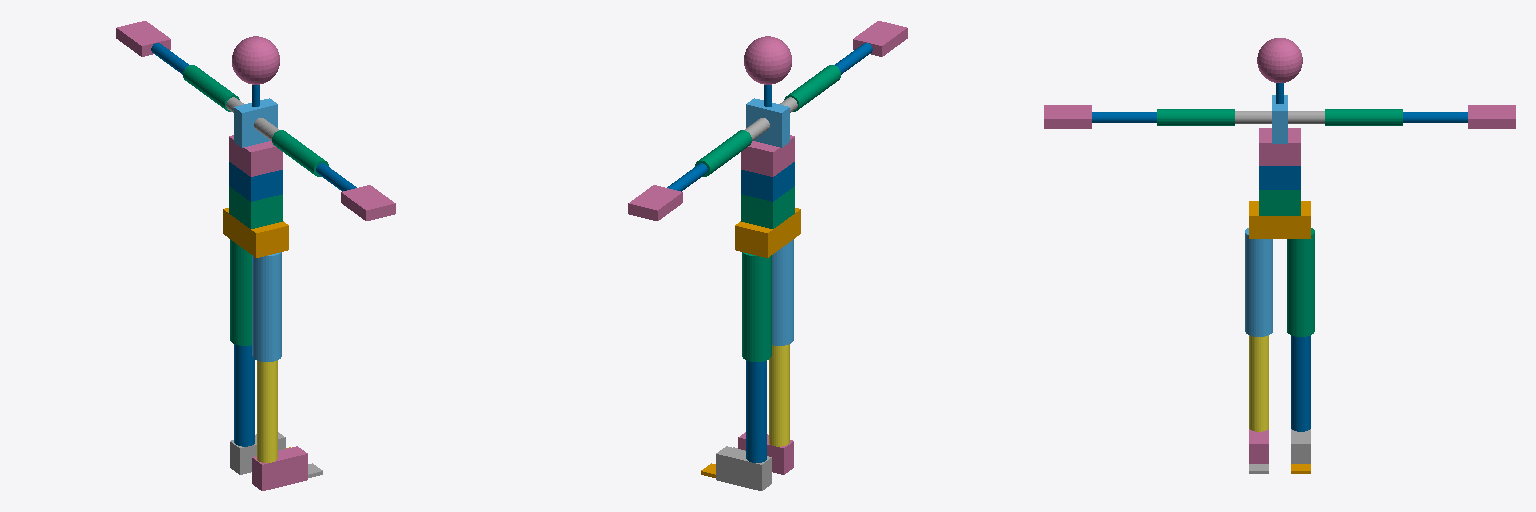
--- Render facts (derived) ---
Views: 3 orthographic renders of the robot side by side, from view 1: azimuth 30°, elevation 25°; view 2: azimuth 150°, elevation 25°; view 3: azimuth 270°, elevation 25°.
Robot: XSensStyleModel_template — 49 links, 48 joints (48 revolute); root link Pelvis; default pose: every joint at zero.
Links seen in each view (by area): view 1: RightUpperLeg, LeftUpperLeg, RightLowerLeg, LeftLowerLeg, Head, Pelvis, RightFoot, T12, L5, T8, L3, RightHand (+4 smaller); view 2: LeftUpperLeg, RightUpperLeg, LeftLowerLeg, RightLowerLeg, Head, Pelvis, LeftFoot, T12, L5, T8, L3, LeftHand (+4 smaller); view 3: RightUpperLeg, LeftUpperLeg, RightLowerLeg, LeftLowerLeg, Pelvis, Head, T12, RightUpperArm, LeftUpperArm, RightHand, LeftHand, L5 (+6 smaller).
Link boxes in pixels (box(x1,y1,x2,y2)): RightUpperLeg: box(252, 252, 281, 361); LeftUpperLeg: box(230, 239, 251, 345); RightLowerLeg: box(257, 360, 277, 462); LeftLowerLeg: box(234, 344, 254, 446); Head: box(232, 36, 279, 84); Pelvis: box(223, 208, 288, 257); RightFoot: box(252, 446, 307, 490); T12: box(229, 135, 282, 176); L5: box(229, 186, 282, 228); T8: box(234, 98, 277, 147); L3: box(229, 162, 282, 201); RightHand: box(341, 185, 395, 220); LeftUpperLeg: box(742, 252, 771, 361); RightUpperLeg: box(772, 239, 793, 345); LeftLowerLeg: box(746, 360, 766, 462); RightLowerLeg: box(769, 344, 789, 446); Head: box(744, 36, 791, 84); Pelvis: box(735, 208, 800, 257); LeftFoot: box(716, 446, 771, 490); T12: box(741, 135, 794, 176); L5: box(741, 186, 794, 228); T8: box(746, 98, 789, 147); L3: box(741, 162, 794, 201); LeftHand: box(628, 185, 682, 220); RightUpperLeg: box(1245, 228, 1272, 336); LeftUpperLeg: box(1287, 228, 1314, 336); RightLowerLeg: box(1249, 335, 1268, 431); LeftLowerLeg: box(1291, 335, 1310, 431); Pelvis: box(1249, 201, 1310, 238); Head: box(1257, 38, 1302, 82); T12: box(1259, 128, 1300, 165); RightUpperArm: box(1157, 109, 1234, 125); LeftUpperArm: box(1325, 109, 1402, 125); RightHand: box(1044, 105, 1091, 128); LeftHand: box(1468, 105, 1515, 128); L5: box(1259, 190, 1300, 215).
Size in the robot's own frame: 0.2984 by 1.8 by 1.74 metres.
Geometry: primitives only (box / cylinder / sphere), no mesh files.

URDF robot description (XSensStyleModel_template):
<robot name="XSensStyleModel_template">
<!--To open this model with Gazebo replace the null masses, inertias and dimensions of the 'fake links f1 and f2'-->
    <!--LINKS-->
	<!--Link base (1)-->
	<link name="Pelvis">
        <inertial>
            <mass value="4.9968"/>
			<!--COM origin wrt pHipOrigin-->
            <origin xyz="0           0     0.04926" rpy="0 0 0" />
            <inertia ixx="0.028027" iyy="0.011679" izz="0.031624" ixy="0" ixz="0" iyz="0"/>
        </inertial>

        <visual>
			<!--box origin wrt pHipOrigin-->
            <origin xyz="0           0     0.04926" rpy="0 0 0" />
            <geometry>
                <box size="0.13544     0.24001    0.098513"/>
            </geometry>
        </visual>

        <collision>
			<!--box origin wrt pHipOrigin-->
            <origin xyz="0           0     0.04926" rpy="0 0 0" />
            <geometry>
                <box size="0.13544     0.24001    0.098513"/>
            </geometry>
        </collision>

    </link>
    <!--Chain from (2) to (7)-->
	<link name="L5_f1">
        <inertial>
            <mass value="0.0001"/>
            <origin xyz="0 0 0" rpy="0 0 0" />
            <inertia ixx="0.0003" iyy="0.0003" izz="0.0003" ixy="0" ixz="0" iyz="0"/>
        </inertial>
    </link>
	<link name="L5">
        <inertial>
            <mass value="6.3709"/>
			<!--COM origin wrt jL5S1-->
            <origin xyz="0           0    0.054267" rpy="0 0 0" />
            <inertia ixx="0.047039" iyy="0.03547" izz="0.069039" ixy="0" ixz="0" iyz="0"/>
        </inertial>

        <visual>
			<!--box origin origin wrt jL5S1-->
            <origin xyz="0           0    0.054267" rpy="0 0 0" />
            <geometry>
                <box size="0.13544     0.16002     0.10853"/>
            </geometry>
        </visual>

        <collision>
			<!--box origin origin wrt jL5S1-->
            <origin xyz="0           0    0.054267" rpy="0 0 0" />
            <geometry>
                <box size="0.13544     0.16002     0.10853"/>
            </geometry>
        </collision>
    </link>
	<link name="L3_f1">
        <inertial>
            <mass value="0.0001"/>
            <origin xyz="0 0 0" rpy="0 0 0" />
            <inertia ixx="0.0003" iyy="0.0003" izz="0.0003" ixy="0" ixz="0" iyz="0"/>
        </inertial>
    </link>
	<link name="L3">
        <inertial>
            <mass value="6.3709"/>
			<!--COM origin wrt jL4L3-->
            <origin xyz="0           0    0.049032" rpy="0 0 0" />
            <inertia ixx="0.045891" iyy="0.034322" izz="0.069039" ixy="0" ixz="0" iyz="0"/>
        </inertial>

        <visual>
			<!--box origin origin wrt jL4L3-->
            <origin xyz="0           0    0.049032" rpy="0 0 0" />
            <geometry>
                <box size="0.13544     0.16002    0.098064"/>
            </geometry>
        </visual>

        <collision>
			<!--box origin origin wrt jL4L3-->
            <origin xyz="0           0    0.049032" rpy="0 0 0" />
            <geometry>
                <box size="0.13544     0.16002    0.098064"/>
            </geometry>
        </collision>
    </link>
	<link name="T12_f1">
        <inertial>
            <mass value="0.0001"/>
            <origin xyz="0 0 0" rpy="0 0 0" />
            <inertia ixx="0.0003" iyy="0.0003" izz="0.0003" ixy="0" ixz="0" iyz="0"/>
        </inertial>
    </link>
	<link name="T12">
        <inertial>
            <mass value="6.3709"/>
			<!--COM origin wrt jL1T12-->
            <origin xyz="0           0    0.049032" rpy="0 0 0" />
            <inertia ixx="0.045891" iyy="0.034322" izz="0.069039" ixy="0" ixz="0" iyz="0"/>
        </inertial>

        <visual>
			<!--box origin origin wrt jL1T12-->
            <origin xyz="0           0    0.049032" rpy="0 0 0" />
            <geometry>
                <box size="0.13544     0.16002    0.098064"/>
            </geometry>
        </visual>

        <collision>
			<!--box origin origin wrt jL1T12-->
            <origin xyz="0           0    0.049032" rpy="0 0 0" />
            <geometry>
                <box size="0.13544     0.16002    0.098064"/>
            </geometry>
        </collision>
    </link>
	<link name="T8_f1">
        <inertial>
            <mass value="0.0001"/>
            <origin xyz="0 0 0" rpy="0 0 0" />
            <inertia ixx="0.0003" iyy="0.0003" izz="0.0003" ixy="0" ixz="0" iyz="0"/>
        </inertial>
    </link>
	<link name="T8_f2">
        <inertial>
            <mass value="0.0001"/>
            <origin xyz="0 0 0" rpy="0 0 0" />
            <inertia ixx="0.0003" iyy="0.0003" izz="0.0003" ixy="0" ixz="0" iyz="0"/>
        </inertial>
    </link>
	<link name="T8">
        <inertial>
            <mass value="2.4984"/>
			<!--COM origin wrt jT9T8-->
            <origin xyz="0           0    0.069025" rpy="0 0 0" />
            <inertia ixx="0.0047169" iyy="0.0086566" izz="0.0054379" ixy="0" ixz="0" iyz="0"/>
        </inertial>

        <visual>
			<!--box origin wrt jT9T8-->
            <origin xyz="0           0    0.069025" rpy="0 0 0" />
            <geometry>
                <box size="0.15007    0.059982     0.13805"/>
            </geometry>
        </visual>

        <collision>
			<!--box origin wrt jT9T8-->
            <origin xyz="0           0    0.069025" rpy="0 0 0" />
            <geometry>
                <box size="0.15007    0.059982     0.13805"/>
            </geometry>
        </collision>

    </link>
	<link name="Neck_f1">
        <inertial>
            <mass value="0.0001"/>
            <origin xyz="0 0 0" rpy="0 0 0" />
            <inertia ixx="0.0003" iyy="0.0003" izz="0.0003" ixy="0" ixz="0" iyz="0"/>
        </inertial>
    </link>
	<link name="Neck_f2">
        <inertial>
            <mass value="0.0001"/>
            <origin xyz="0 0 0" rpy="0 0 0" />
            <inertia ixx="0.0003" iyy="0.0003" izz="0.0003" ixy="0" ixz="0" iyz="0"/>
        </inertial>
    </link>
	<link name="Neck">
        <inertial>
            <mass value="0.74952"/>
			<!--COM origin wrt jT1C7-->
            <origin xyz="0           0     0.04564" rpy="0 0 0" />
            <inertia ixx="0.0006812" iyy="0.0006812" izz="0.00032155" ixy="0" ixz="0" iyz="0"/>
        </inertial>

        <visual>
			<!--box origin wrt jT1C7-->
            <origin xyz="0           0     0.04564" rpy="0 0 0" />
            <geometry>
		<cylinder length="0.09128" radius="0.014646"/>
            </geometry>
        </visual>

        <collision>
			<!--box origin wrt jT1C7-->
            <origin xyz="0           0     0.04564" rpy="0 0 0" />
            <geometry>
                <cylinder length="0.09128" radius="0.014646"/>
            </geometry>
        </collision>
    </link>
	<link name="Head_f1">
        <inertial>
            <mass value="0.0001"/>
            <origin xyz="0 0 0" rpy="0 0 0" />
            <inertia ixx="0.0003" iyy="0.0003" izz="0.0003" ixy="0" ixz="0" iyz="0"/>
        </inertial>
    </link>
	<link name="Head">
        <inertial>
            <mass value="2.2486"/>
			<!--COM origin wrt jC1Head-->
            <origin xyz="0           0    0.087374" rpy="0 0 0" />
            <inertia ixx="0.0068665" iyy="0.0068665" izz="0.0068665" ixy="0" ixz="0" iyz="0"/>
        </inertial>

        <visual>
			<!--boc origin wrt jC1Head-->
            <origin xyz="0           0    0.087374" rpy="0 0 0" />
            <geometry>
                <sphere radius="0.087374"/>
            </geometry>
        </visual>

        <collision>
			<!--box origin wrt jC1Head-->
            <origin xyz="0           0    0.087374" rpy="0 0 0" />
            <geometry>
                <sphere radius="0.087374"/>
            </geometry>
        </collision>

    </link>
	<!--Chain from (8) to (11)-->
	<link name="RightShoulder">
        <inertial>
            <mass value="1.9363"/>
			<!--COM origin wrt jRightC7Shoulder-->
            <origin xyz="0   -0.069999           0" rpy="0 0 0" />
            <inertia ixx="0.0034652" iyy="0.00060537" izz="0.0034652" ixy="0" ixz="0" iyz="0"/>
        </inertial>

        <visual>
			<!--box origin wrt jRightC7Shoulder. RPY rotated of pi/2.-->
            <origin xyz="0   -0.069999           0" rpy="1.5708 0 0" />
            <geometry>
                <cylinder length="0.14" radius="0.025006"/>
            </geometry>
        </visual>

        <collision>
			<!--box origin wrt jRightC7Shoulder. RPY rotated of pi/2.-->
            <origin xyz="0   -0.069999           0" rpy="1.5708 0 0" />
            <geometry>
                <cylinder length="0.14" radius="0.025006"/>
            </geometry>
        </collision>

    </link>
	<link name="RightUpperArm_f1">
        <inertial>
            <mass value="0.0001"/>
            <origin xyz="0 0 0" rpy="0 0 0" />
            <inertia ixx="0.0003" iyy="0.0003" izz="0.0003" ixy="0" ixz="0" iyz="0"/>
        </inertial>
    </link>
	<link name="RightUpperArm_f2">
        <inertial>
            <mass value="0.0001"/>
            <origin xyz="0 0 0" rpy="0 0 0" />
            <inertia ixx="0.0003" iyy="0.0003" izz="0.0003" ixy="0" ixz="0" iyz="0"/>
        </inertial>
    </link>
    <link name="RightUpperArm">
        <inertial>
            <mass value="1.8738"/>
			<!--COM origin wrt jRightShoulder-->
            <origin xyz="0    -0.14999           0" rpy="0 0 0" />
            <inertia ixx="0.014546" iyy="0.014546" izz="0.00098966" ixy="0" ixz="0" iyz="0"/>
        </inertial>

        <visual>
			<!--box origin wrt jRightShoulder. RPY rotated of pi/2.-->
            <origin xyz="0    -0.14999           0" rpy="1.5708 0 0" />
            <geometry>
                <cylinder length="0.29998" radius="0.032501"/>
            </geometry>
        </visual>

        <collision>
			<!--box origin wrt jRightShoulder. RPY rotated of pi/2.-->
            <origin xyz="0    -0.14999           0" rpy="1.5708 0 0" />
            <geometry>
                <cylinder length="0.29998" radius="0.032501"/>
            </geometry>
        </collision>

    </link>
	<link name="RightForeArm_f1">
        <inertial>
            <mass value="0.0001"/>
            <origin xyz="0 0 0" rpy="0 0 0" />
            <inertia ixx="0.0003" iyy="0.0003" izz="0.0003" ixy="0" ixz="0" iyz="0"/>
        </inertial>
    </link>
	<link name="RightForeArm">
        <inertial>
            <mass value="1.2492"/>
			<!--COM origin wrt jRightElbow-->
            <origin xyz="0    -0.12261           0" rpy="0 0 0" />
            <inertia ixx="0.0064063" iyy="0.0064063" izz="0.00029323" ixy="0" ixz="0" iyz="0"/>
        </inertial>

        <visual>
			<!--box origin wrt jRightElbow. RPY rotated of pi/2.-->
            <origin xyz="0    -0.12261           0" rpy="1.5708 0 0" />
            <geometry>
                <cylinder length="0.24522" radius="0.021667"/>
            </geometry>
        </visual>

        <collision>
			<!--box origin wrt jRightElbow. RPY rotated of pi/2.-->
            <origin xyz="0    -0.12261           0" rpy="1.5708 0 0" />
            <geometry>
                <cylinder length="0.24522" radius="0.021667"/>
            </geometry>
        </collision>

    </link>
	<link name="RightHand_f1">
        <inertial>
            <mass value="0.0001"/>
            <origin xyz="0 0 0" rpy="0 0 0" />
            <inertia ixx="0.0003" iyy="0.0003" izz="0.0003" ixy="0" ixz="0" iyz="0"/>
        </inertial>
    </link>
	<link name="RightHand">
        <inertial>
            <mass value="0.37476"/>
			<!--COM origin wrt jRightWrist-->
            <origin xyz="0   -0.091519           0" rpy="0 0 0" />
            <inertia ixx="0.0011049" iyy="0.00052366" izz="0.0015113" ixy="0" ixz="0" iyz="0"/>
        </inertial>

        <visual>
			<!--box origin wrt jRightWrist-->
            <origin xyz="0   -0.091519           0" rpy="0 0 0" />
            <geometry>
                <box size="0.12202     0.18304    0.043335"/>
            </geometry>
        </visual>

        <collision>
			<!--box origin wrt jRightWrist-->
            <origin xyz="0   -0.091519           0" rpy="0 0 0" />
            <geometry>
                <box size="0.12202     0.18304    0.043335"/>
            </geometry>
        </collision>

    </link>
	<!--Chain from (12) to (15)-->
	<link name="LeftShoulder">
        <inertial>
            <mass value="1.9363"/>
			<!--COM origin wrt jLeftC7Shoulder-->
            <origin xyz="0    0.069999           0" rpy="0 0 0" />
            <inertia ixx="0.0034652" iyy="0.00060537" izz="0.0034652" ixy="0" ixz="0" iyz="0"/>
        </inertial>

        <visual>
			<!--box origin wrt jLeftC7Shoulder. RPY rotated of pi/2.-->
            <origin xyz="0    0.069999           0" rpy="1.5708 0 0" />
            <geometry>
                <cylinder length="0.14" radius="0.025006"/>
            </geometry>
        </visual>

        <collision>
			<!--box origin wrt jLeftC7Shoulder. RPY rotated of pi/2.-->
            <origin xyz="0    0.069999           0" rpy="1.5708 0 0" />
            <geometry>
                <cylinder length="0.14" radius="0.025006"/>
            </geometry>
        </collision>

    </link>
	<link name="LeftUpperArm_f1">
        <inertial>
            <mass value="0.0001"/>
            <origin xyz="0 0 0" rpy="0 0 0" />
            <inertia ixx="0.0003" iyy="0.0003" izz="0.0003" ixy="0" ixz="0" iyz="0"/>
        </inertial>
    </link>
	<link name="LeftUpperArm_f2">
        <inertial>
            <mass value="0.0001"/>
            <origin xyz="0 0 0" rpy="0 0 0" />
            <inertia ixx="0.0003" iyy="0.0003" izz="0.0003" ixy="0" ixz="0" iyz="0"/>
        </inertial>
    </link>
	<link name="LeftUpperArm">
        <inertial>
            <mass value="1.8738"/>
			<!--COM origin wrt jLeftShoulder-->
            <origin xyz="0     0.14999           0" rpy="0 0 0" />
            <inertia ixx="0.014546" iyy="0.014546" izz="0.00098966" ixy="0" ixz="0" iyz="0"/>
        </inertial>

        <visual>
			<!--box origin wrt jLeftShoulder. RPY rotated of pi/2.-->
            <origin xyz="0     0.14999           0" rpy="1.5708 0 0" />
            <geometry>
                <cylinder length="0.29998" radius="0.032501"/>
            </geometry>
        </visual>

        <collision>
			<!--box origin wrt jLeftShoulder. RPY rotated of pi/2.-->
            <origin xyz="0     0.14999           0" rpy="1.5708 0 0" />
            <geometry>
                <cylinder length="0.29998" radius="0.032501"/>
            </geometry>
        </collision>

    </link>
	<link name="LeftForeArm_f1">
        <inertial>
            <mass value="0.0001"/>
            <origin xyz="0 0 0" rpy="0 0 0" />
            <inertia ixx="0.0003" iyy="0.0003" izz="0.0003" ixy="0" ixz="0" iyz="0"/>
        </inertial>
    </link>
	<link name="LeftForeArm">
        <inertial>
            <mass value="1.2492"/>
			<!--COM origin wrt jLeftElbow-->
            <origin xyz="0     0.12261           0" rpy="0 0 0" />
            <inertia ixx="0.0064063" iyy="0.0064063" izz="0.00029323" ixy="0" ixz="0" iyz="0"/>
        </inertial>

        <visual>
			<!--box origin wrt jLeftElbow. RPY rotated of pi/2.-->
            <origin xyz="0     0.12261           0" rpy="1.5708 0 0" />
            <geometry>
                <cylinder length="0.24522" radius="0.021667"/>
            </geometry>
        </visual>

        <collision>
			<!--box origin wrt jLeftElbow. RPY rotated of pi/2.-->
            <origin xyz="0     0.12261           0" rpy="1.5708 0 0" />
            <geometry>
                <cylinder length="0.24522" radius="0.021667"/>
            </geometry>
        </collision>

    </link>
	<link name="LeftHand_f1">
        <inertial>
            <mass value="0.0001"/>
            <origin xyz="0 0 0" rpy="0 0 0" />
            <inertia ixx="0.0003" iyy="0.0003" izz="0.0003" ixy="0" ixz="0" iyz="0"/>
        </inertial>
    </link>
	<link name="LeftHand">
        <inertial>
            <mass value="0.37476"/>
			<!--COM origin wrt jLeftWrist-->
            <origin xyz="0    0.091519           0" rpy="0 0 0" />
            <inertia ixx="0.0011049" iyy="0.00052366" izz="0.0015113" ixy="0" ixz="0" iyz="0"/>
        </inertial>

        <visual>
			<!--COM origin wrt jLeftWrist-->
            <origin xyz="0    0.091519           0" rpy="0 0 0" />
            <geometry>
                <box size="0.12202     0.18304    0.043335"/>
            </geometry>
        </visual>

        <collision>
			<!--COM origin wrt jLeftWrist-->
            <origin xyz="0    0.091519           0" rpy="0 0 0" />
            <geometry>
                <box size="0.12202     0.18304    0.043335"/>
            </geometry>
        </collision>

    </link>
	<!--Chain from (16) to (19)-->
	<link name="RightUpperLeg_f1">
        <inertial>
            <mass value="0.0001"/>
            <origin xyz="0 0 0" rpy="0 0 0" />
            <inertia ixx="0.0003" iyy="0.0003" izz="0.0003" ixy="0" ixz="0" iyz="0"/>
        </inertial>
    </link>
	<link name="RightUpperLeg_f2">
        <inertial>
            <mass value="0.0001"/>
            <origin xyz="0 0 0" rpy="0 0 0" />
            <inertia ixx="0.0003" iyy="0.0003" izz="0.0003" ixy="0" ixz="0" iyz="0"/>
        </inertial>
    </link>
    <link name="RightUpperLeg">
        <inertial>
            <mass value="7.8075"/>
			<!--COM origin wrt jRightHip-->
            <origin xyz="0           0     -0.2098" rpy="0 0 0" />
            <inertia ixx="0.12001" iyy="0.12001" izz="0.010917" ixy="0" ixz="0" iyz="0"/>
        </inertial>

        <visual>
			<!--box origin wrt jRightHip-->
            <origin xyz="0           0     -0.2098" rpy="0 0 0" />
            <geometry>
                <cylinder length="0.41961" radius="0.052882"/>
            </geometry>
        </visual>

        <collision>
			<!--box origin wrt jRightHip-->
            <origin xyz="0           0     -0.2098" rpy="0 0 0" />
            <geometry>
                <cylinder length="0.41961" radius="0.052882"/>
            </geometry>
        </collision>

    </link>
	<link name="RightLowerLeg_f1">
        <inertial>
            <mass value="0.0001"/>
            <origin xyz="0 0 0" rpy="0 0 0" />
            <inertia ixx="0.0003" iyy="0.0003" izz="0.0003" ixy="0" ixz="0" iyz="0"/>
        </inertial>
    </link>
    <link name="RightLowerLeg">
        <inertial>
            <mass value="2.2798"/>
			<!--COM origin wrt jRightKnee-->
            <origin xyz="0           0    -0.20315" rpy="0 0 0" />
            <inertia ixx="0.032164" iyy="0.032164" izz="0.0016028" ixy="0" ixz="0" iyz="0"/>
        </inertial>

        <visual>
			<!--box origin wrt jRightKnee-->
            <origin xyz="0           0    -0.20315" rpy="0 0 0" />
            <geometry>
                <cylinder length="0.4063" radius="0.037498"/>
            </geometry>
        </visual>

        <collision>
			<!--box origin wrt jRightKnee-->
            <origin xyz="0           0    -0.20315" rpy="0 0 0" />
            <geometry>
                <cylinder length="0.4063" radius="0.037498"/>
            </geometry>
        </collision>

    </link>
	<link name="RightFoot_f1">
        <inertial>
            <mass value="0.0001"/>
            <origin xyz="0 0 0" rpy="0 0 0" />
            <inertia ixx="0.0003" iyy="0.0003" izz="0.0003" ixy="0" ixz="0" iyz="0"/>
        </inertial>
    </link>
	<link name="RightFoot_f2">
        <inertial>
            <mass value="0.0001"/>
            <origin xyz="0 0 0" rpy="0 0 0" />
            <inertia ixx="0.0003" iyy="0.0003" izz="0.0003" ixy="0" ixz="0" iyz="0"/>
        </inertial>
    </link>
    <link name="RightFoot">
        <inertial>
            <mass value="0.81198"/>
			<!--COM origin wrt jRightAnkle-->
            <origin xyz="0.052717           0   -0.052892" rpy="0 0 0" />
            <inertia ixx="0.0011377" iyy="0.0031853" izz="0.0028087" ixy="0" ixz="0" iyz="0"/>
        </inertial>

        <visual>
			<!--box origin wrt jRightAnkle-->
	    	<origin xyz="0.052717           0   -0.052892" rpy="0 0 0" />
            <geometry>
                <box size="0.18943    0.074996     0.10578"/>
            </geometry>
        </visual>

        <collision>
			<!--box origin wrt jRightAnkle-->
		    <origin xyz="0.052717           0   -0.052892" rpy="0 0 0" />
	            <geometry>
	                <box size="0.18943    0.074996     0.10578"/>
	            </geometry>
        </collision>

    </link>
    <link name="RightToe">
        <inertial>
            <mass value="0.09369"/>
			<!--COM origin wrt jRightBallFoot-->
            <origin xyz="0.031785           0           0" rpy="0 0 0" />
            <inertia ixx="4.5665e-05" iyy="3.3302e-05" izz="7.5463e-05" ixy="0" ixz="0" iyz="0"/>
        </inertial>

        <visual>
			<!--box origin wrt jRightBallFoot-->
            <origin xyz="0.031785           0           0" rpy="0 0 0" />
            <geometry>
                <box size="0.063569    0.074996     0.01498"/>
            </geometry>
        </visual>

        <collision>
			<!--box origin wrt jRightBallFoot-->
            <origin xyz="0.031785           0           0" rpy="0 0 0" />
            <geometry>
                <box size="0.063569    0.074996     0.01498"/>
            </geometry>
        </collision>
    </link>
	<!--Chain from (20) to (23)-->
	<link name="LeftUpperLeg_f1">
        <inertial>
            <mass value="0.0001"/>
            <origin xyz="0 0 0" rpy="0 0 0" />
            <inertia ixx="0.0003" iyy="0.0003" izz="0.0003" ixy="0" ixz="0" iyz="0"/>
        </inertial>
    </link>
	<link name="LeftUpperLeg_f2">
        <inertial>
            <mass value="0.0001"/>
            <origin xyz="0 0 0" rpy="0 0 0" />
            <inertia ixx="0.0003" iyy="0.0003" izz="0.0003" ixy="0" ixz="0" iyz="0"/>
        </inertial>
    </link>
    <link name="LeftUpperLeg">
        <inertial>
            <mass value="7.8075"/>
			<!--COM origin wrt jLeftHip-->
            <origin xyz="0           0     -0.2098" rpy="0 0 0" />
            <inertia ixx="0.12001" iyy="0.12001" izz="0.010917" ixy="0" ixz="0" iyz="0"/>
        </inertial>

        <visual>
			<!--box origin wrt jLeftHip-->
            <origin xyz="0           0     -0.2098" rpy="0 0 0" />
            <geometry>
                <cylinder length="0.41961" radius="-0.052882"/>
            </geometry>
        </visual>

        <collision>
			<!--box origin wrt jLeftHip-->
            <origin xyz="0           0     -0.2098" rpy="0 0 0" />
            <geometry>
                <cylinder length="0.41961" radius="-0.052882"/>
            </geometry>
        </collision>

    </link>
	<link name="LeftLowerLeg_f1">
        <inertial>
            <mass value="0.0001"/>
            <origin xyz="0 0 0" rpy="0 0 0" />
            <inertia ixx="0.0003" iyy="0.0003" izz="0.0003" ixy="0" ixz="0" iyz="0"/>
        </inertial>
    </link>
	<link name="LeftLowerLeg">
        <inertial>
            <mass value="2.2798"/>
			<!--COM origin wrt jLeftKnee-->
            <origin xyz="0           0    -0.20315" rpy="0 0 0" />
            <inertia ixx="0.032164" iyy="0.032164" izz="0.0016028" ixy="0" ixz="0" iyz="0"/>
        </inertial>

        <visual>
			<!--box origin wrt jLeftKnee-->
            <origin xyz="0           0    -0.20315" rpy="0 0 0" />
            <geometry>
		<cylinder length="0.4063" radius="0.037498"/>
            </geometry>
        </visual>

        <collision>
			<!--box origin wrt jLeftKnee-->
            <origin xyz="0           0    -0.20315" rpy="0 0 0" />
            <geometry>
		<cylinder length="0.4063" radius="0.037498"/>
            </geometry>
        </collision>

    </link>
	<link name="LeftFoot_f1">
        <inertial>
            <mass value="0.0001"/>
            <origin xyz="0 0 0" rpy="0 0 0" />
            <inertia ixx="0.0003" iyy="0.0003" izz="0.0003" ixy="0" ixz="0" iyz="0"/>
        </inertial>
    </link>
	<link name="LeftFoot_f2">
        <inertial>
            <mass value="0.0001"/>
            <origin xyz="0 0 0" rpy="0 0 0" />
            <inertia ixx="0.0003" iyy="0.0003" izz="0.0003" ixy="0" ixz="0" iyz="0"/>
        </inertial>
    </link>
    <link name="LeftFoot">
        <inertial>
            <mass value="0.81198"/>
			<!--COM origin wrt jLeftAnkle-->
            <origin xyz="0.052717           0   -0.052892" rpy="0 0 0" />
            <inertia ixx="0.0011377" iyy="0.0031853" izz="0.0028087" ixy="0" ixz="0" iyz="0"/>
        </inertial>

        <visual>
			<!--box origin wrt jLeftAnkle-->
	   	 	<origin xyz="0.052717           0   -0.052892" rpy="0 0 0" />
            <geometry>
                <box size="0.18943    0.074996     0.10578"/>
            </geometry>
        </visual>

        <collision>
			<!--box origin wrt jLeftAnkle-->
		    <origin xyz="0.052717           0   -0.052892" rpy="0 0 0" />
	            <geometry>
	                <box size="0.18943    0.074996     0.10578"/>
	            </geometry>
        </collision>

    </link>
	<link name="LeftToe">
        <inertial>
            <mass value="0.09369"/>
			<!--COM origin wrt jLeftBallFoot-->
            <origin xyz="0.031785           0           0" rpy="0 0 0" />
            <inertia ixx="4.5665e-05" iyy="3.3302e-05" izz="7.5463e-05" ixy="0" ixz="0" iyz="0"/>
        </inertial>

        <visual>
			<!--box origin wrt jLeftBallFoot-->
            <origin xyz="0.031785           0           0" rpy="0 0 0" />
            <geometry>
                <box size="0.063569    0.074996     0.01498"/>
            </geometry>
        </visual>

        <collision>
			<!--box origin wrt jLeftBallFoot-->
            <origin xyz="0.031785           0           0" rpy="0 0 0" />
            <geometry>
                <box size="0.063569    0.074996     0.01498"/>
            </geometry>
        </collision>
    </link>


	<!--JOINTS-->
	<!--Chain from (2) to (7)-->
	<joint name="jL5S1_rotx" type="revolute">
        <origin xyz="-1e-06           0    0.098516" rpy="0 0 0"/>
        <parent link="Pelvis"/>
        <child link="L5_f1"/>
        <dynamics damping="0.1" friction="0.0"/>
        <limit effort="30" velocity="1.0" lower="-0.610865" upper="0.610865" />
        <axis xyz="1 0 0" />
    </joint>
	<joint name="jL5S1_roty" type="revolute">
        <origin xyz="0 0 0" rpy="0 0 0"/>
        <parent link="L5_f1"/>
        <child link="L5"/>
        <dynamics damping="0.1" friction="0.0"/>
        <limit effort="30" velocity="1.0" lower="-0.523599" upper="1.309" />
        <axis xyz="0 1 0" />
    </joint>
	<joint name="jL4L3_rotx" type="revolute">
        <origin xyz="1e-06           0     0.10853" rpy="0 0 0"/>
        <parent link="L5"/>
        <child link="L3_f1"/>
        <dynamics damping="0.1" friction="0.0"/>
        <limit effort="30" velocity="1.0" lower="-0.610865" upper="0.610865" />
        <axis xyz="1 0 0" />
    </joint>
	<joint name="jL4L3_roty" type="revolute">
        <origin xyz="0 0 0" rpy="0 0 0"/>
        <parent link="L3_f1"/>
        <child link="L3"/>
        <dynamics damping="0.1" friction="0.0"/>
        <limit effort="30" velocity="1.0" lower="-0.523599" upper="1.309" />
        <axis xyz="0 1 0" />
    </joint>
	<joint name="jL1T12_rotx" type="revolute">
        <origin xyz="0           0    0.098064" rpy="0 0 0"/>
        <parent link="L3"/>
        <child link="T12_f1"/>
        <dynamics damping="0.1" friction="0.0"/>
        <limit effort="30" velocity="1.0" lower="-0.610865" upper="0.610865" />
        <axis xyz="1 0 0" />
    </joint>
	<joint name="jL1T12_roty" type="revolute">
        <origin xyz="0 0 0" rpy="0 0 0"/>
        <parent link="T12_f1"/>
        <child link="T12"/>
        <dynamics damping="0.1" friction="0.0"/>
        <limit effort="30" velocity="1.0" lower="-0.523599" upper="1.309" />
        <axis xyz="0 1 0" />
    </joint>
	<joint name="jT9T8_rotx" type="revolute">
        <origin xyz="0           0    0.098064" rpy="0 0 0"/>
        <parent link="T12"/>
        <child link="T8_f1"/>
        <dynamics damping="0.1" friction="0.0"/>
        <limit effort="30" velocity="1.0" lower="-0.349066" upper="0.349066" />
        <axis xyz="1 0 0" />
    </joint>
	<joint name="jT9T8_roty" type="revolute">
        <origin xyz="0 0 0" rpy="0 0 0"/>
        <parent link="T8_f1"/>
        <child link="T8_f2"/>
        <dynamics damping="0.1" friction="0.0"/>
        <limit effort="30" velocity="1.0" lower="-0.261799" upper="0.698132" />
        <axis xyz="0 1 0" />
    </joint>
    <joint name="jT9T8_rotz" type="revolute">
        <origin xyz="0 0 0" rpy="0 0 0"/>
        <parent link="T8_f2"/>
        <child link="T8"/>
        <dynamics damping="0.1" friction="0.0"/>
        <limit effort="30" velocity="1.0" lower="-0.610865" upper="0.610865" />
        <axis xyz="0 0 1" />
    </joint>
	<joint name="jT1C7_rotx" type="revolute">
        <origin xyz="0           0     0.13805" rpy="0 0 0"/>
        <parent link="T8"/>
        <child link="Neck_f1"/>
        <dynamics damping="0.1" friction="0.0"/>
        <limit effort="30" velocity="1.0" lower="-0.610865" upper="0.610865" />
        <axis xyz="1 0 0" />
    </joint>
	<joint name="jT1C7_roty" type="revolute">
        <origin xyz="0 0 0" rpy="0 0 0"/>
        <parent link="Neck_f1"/>
        <child link="Neck_f2"/>
        <dynamics damping="0.1" friction="0.0"/>
        <limit effort="30" velocity="1.0" lower="-0.959931" upper="1.5708" />
        <axis xyz="0 1 0" />
    </joint>
    <joint name="jT1C7_rotz" type="revolute">
        <origin xyz="0 0 0" rpy="0 0 0"/>
        <parent link="Neck_f2"/>
        <child link="Neck"/>
        <dynamics damping="0.1" friction="0.0"/>
        <limit effort="30" velocity="1.0" lower="-1.22173" upper="1.22173" />
        <axis xyz="0 0 1" />
    </joint>
	<joint name="jC1Head_rotx" type="revolute">
        <origin xyz="3e-06           0     0.09128" rpy="0 0 0"/>
        <parent link="Neck"/>
        <child link="Head_f1"/>
        <dynamics damping="0.1" friction="0.0"/>
        <limit effort="30" velocity="1.0" lower="-0.610865" upper="0.610865" />
        <axis xyz="1 0 0" />
    </joint>
	<joint name="jC1Head_roty" type="revolute">
        <origin xyz="0 0 0" rpy="0 0 0"/>
        <parent link="Head_f1"/>
        <child link="Head"/>
        <dynamics damping="0.1" friction="0.0"/>
        <limit effort="30" velocity="1.0" lower="-0.436332" upper="0.174533" />
        <axis xyz="0 1 0" />
    </joint>
	<!--Chain from (8) to (11)-->
	<joint name="jRightC7Shoulder_rotx" type="revolute">
        <origin xyz="0   -0.029991    0.077029" rpy="0 0 0"/>
        <parent link="T8"/>
        <child link="RightShoulder"/>
        <dynamics damping="0.1" friction="0.0"/>
        <limit effort="30" velocity="1.0" lower="-0.0872665" upper="0.785398" />
        <axis xyz="1 0 0" />
    </joint>
	<joint name="jRightShoulder_rotx" type="revolute">
        <origin xyz="0       -0.14           0" rpy="0 0 0"/>
        <parent link="RightShoulder"/>
        <child link="RightUpperArm_f1"/>
        <dynamics damping="0.1" friction="0.0"/>
        <limit effort="30" velocity="1.0" lower="-2.35619" upper="1.5708" />
        <axis xyz="1 0 0" />
    </joint>
	<joint name="jRightShoulder_roty" type="revolute">
        <origin xyz="0 0 0" rpy="0 0 0"/>
        <parent link="RightUpperArm_f1"/>
        <child link="RightUpperArm_f2"/>
        <dynamics damping="0.1" friction="0.0"/>
        <limit effort="30" velocity="1.0" lower="-1.5708" upper="1.5708" />
        <axis xyz="0 1 0" />
    </joint>
    <joint name="jRightShoulder_rotz" type="revolute">
        <origin xyz="0 0 0" rpy="0 0 0"/>
        <parent link="RightUpperArm_f2"/>
        <child link="RightUpperArm"/>
        <dynamics damping="0.1" friction="0.0"/>
        <limit effort="30" velocity="1.0" lower="-0.785398" upper="3.14159" />
        <axis xyz="0 0 1" />
    </joint>
	<joint name="jRightElbow_roty" type="revolute">
        <origin xyz="0    -0.29998           0" rpy="0 0 0"/>
        <parent link="RightUpperArm"/>
        <child link="RightForeArm_f1"/>
        <dynamics damping="0.1" friction="0.0"/>
        <limit effort="30" velocity="1.0" lower="-1.5708" upper="1.48353" />
        <axis xyz="0 1 0" />
    </joint>
	<joint name="jRightElbow_rotz" type="revolute">
        <origin xyz="0 0 0" rpy="0 0 0"/>
        <parent link="RightForeArm_f1"/>
        <child link="RightForeArm"/>
        <dynamics damping="0.1" friction="0.0"/>
        <limit effort="30" velocity="1.0" lower="0" upper="2.53073" />
        <axis xyz="0 0 1" />
    </joint>
	<joint name="jRightWrist_rotx" type="revolute">
        <origin xyz="1e-06    -0.24522           0" rpy="0 0 0"/>
        <parent link="RightForeArm"/>
        <child link="RightHand_f1"/>
        <dynamics damping="0.1" friction="0.0"/>
        <limit effort="30" velocity="1.0" lower="-0.872665" upper="1.0472" />
        <axis xyz="1 0 0" />
    </joint>
	<joint name="jRightWrist_rotz" type="revolute">
        <origin xyz="0 0 0" rpy="0 0 0"/>
        <parent link="RightHand_f1"/>
        <child link="RightHand"/>
        <dynamics damping="0.1" friction="0.0"/>
        <limit effort="30" velocity="1.0" lower="-0.523599" upper="0.349066" />
        <axis xyz="0 0 1" />
    </joint>
	<!--Chain from (12) to (15)-->
	<joint name="jLeftC7Shoulder_rotx" type="revolute">
        <origin xyz="0    0.029991    0.077029" rpy="0 0 0"/>
        <parent link="T8"/>
        <child link="LeftShoulder"/>
        <dynamics damping="0.1" friction="0.0"/>
        <limit effort="30" velocity="1.0" lower="-0.0872665" upper="0.785398" />
        <axis xyz="1 0 0" />
    </joint>
	<joint name="jLeftShoulder_rotx" type="revolute">
        <origin xyz="0        0.14           0" rpy="0 0 0"/>
        <parent link="LeftShoulder"/>
        <child link="LeftUpperArm_f1"/>
        <dynamics damping="0.1" friction="0.0"/>
        <limit effort="30" velocity="1.0" lower="-1.5708" upper="2.35619" />
        <axis xyz="1 0 0" />
    </joint>
	<joint name="jLeftShoulder_roty" type="revolute">
        <origin xyz="0 0 0" rpy="0 0 0"/>
        <parent link="LeftUpperArm_f1"/>
        <child link="LeftUpperArm_f2"/>
        <dynamics damping="0.1" friction="0.0"/>
        <limit effort="30" velocity="1.0" lower="-1.5708" upper="1.5708" />
        <axis xyz="0 1 0" />
    </joint>
    <joint name="jLeftShoulder_rotz" type="revolute">
        <origin xyz="0 0 0" rpy="0 0 0"/>
        <parent link="LeftUpperArm_f2"/>
        <child link="LeftUpperArm"/>
        <dynamics damping="0.1" friction="0.0"/>
        <limit effort="30" velocity="1.0" lower="-3.14159" upper="0.785398" />
        <axis xyz="0 0 1" />
    </joint>
    <joint name="jLeftElbow_roty" type="revolute">
        <origin xyz="0     0.29998           0" rpy="0 0 0"/>
        <parent link="LeftUpperArm"/>
        <child link="LeftForeArm_f1"/>
        <dynamics damping="0.1" friction="0.0"/>
        <limit effort="30" velocity="1.0" lower="-1.5708" upper="1.48353" />
        <axis xyz="0 1 0" />
    </joint>
    <joint name="jLeftElbow_rotz" type="revolute">
        <origin xyz="0 0 0" rpy="0 0 0"/>
        <parent link="LeftForeArm_f1"/>
        <child link="LeftForeArm"/>
        <dynamics damping="0.1" friction="0.0"/>
        <limit effort="30" velocity="1.0" lower="-2.53073" upper="0" />
        <axis xyz="0 0 1" />
    </joint>
	<joint name="jLeftWrist_rotx" type="revolute">
        <origin xyz="1e-06     0.24522           0" rpy="0 0 0"/>
        <parent link="LeftForeArm"/>
        <child link="LeftHand_f1"/>
        <dynamics damping="0.1" friction="0.0"/>
        <limit effort="30" velocity="1.0" lower="-1.0472" upper="0.872665" />
        <axis xyz="1 0 0" />
    </joint>
	<joint name="jLeftWrist_rotz" type="revolute">
        <origin xyz="0 0 0" rpy="0 0 0"/>
        <parent link="LeftHand_f1"/>
        <child link="LeftHand"/>
        <dynamics damping="0.1" friction="0.0"/>
        <limit effort="30" velocity="1.0" lower="-0.349066" upper="0.523599" />
        <axis xyz="0 0 1" />
    </joint>
	<!--Chain from (16) to (19)-->
	<joint name="jRightHip_rotx" type="revolute">
        <origin xyz="0   -0.080011       3e-06" rpy="0 0 0"/>
        <parent link="Pelvis"/>
        <child link="RightUpperLeg_f1"/>
        <dynamics damping="0.1" friction="0.0"/>
        <limit effort="30" velocity="1.0" lower="-0.523599" upper="0.785398" />
        <axis xyz="1 0 0" />
    </joint>
	<joint name="jRightHip_roty" type="revolute">
        <origin xyz="0 0 0" rpy="0 0 0"/>
        <parent link="RightUpperLeg_f1"/>
        <child link="RightUpperLeg_f2"/>
        <dynamics damping="0.1" friction="0.0"/>
        <limit effort="30" velocity="1.0" lower="-0.261799" upper="2.0944" />
        <axis xyz="0 1 0" />
    </joint>
    <joint name="jRightHip_rotz" type="revolute">
        <origin xyz="0 0 0" rpy="0 0 0"/>
        <parent link="RightUpperLeg_f2"/>
        <child link="RightUpperLeg"/>
        <dynamics damping="0.1" friction="0.0"/>
        <limit effort="30" velocity="1.0" lower="-0.785398" upper="0.785398" />
        <axis xyz="0 0 1" />
    </joint>
	<joint name="jRightKnee_roty" type="revolute">
        <origin xyz="4e-06           0    -0.41961" rpy="0 0 0"/>
        <parent link="RightUpperLeg"/>
        <child link="RightLowerLeg_f1"/>
        <dynamics damping="0.1" friction="0.0"/>
        <limit effort="30" velocity="1.0" lower="0" upper="2.35619" />
        <axis xyz="0 1 0" />
    </joint>
	<joint name="jRightKnee_rotz" type="revolute">
        <origin xyz="0 0 0" rpy="0 0 0"/>
        <parent link="RightLowerLeg_f1"/>
        <child link="RightLowerLeg"/>
        <dynamics damping="0.1" friction="0.0"/>
        <limit effort="30" velocity="1.0" lower="-0.698132" upper="0.523599" />
        <axis xyz="0 0 1" />
    </joint>
	<joint name="jRightAnkle_rotx" type="revolute">
        <origin xyz="4.5e-05           0     -0.4063" rpy="0 0 0"/>
        <parent link="RightLowerLeg"/>
        <child link="RightFoot_f1"/>
        <dynamics damping="0.1" friction="0.0"/>
        <limit effort="30" velocity="1.0" lower="-0.610865" upper="0.785398" />
        <axis xyz="1 0 0" />
    </joint>
	<joint name="jRightAnkle_roty" type="revolute">
        <origin xyz="0 0 0" rpy="0 0 0"/>
        <parent link="RightFoot_f1"/>
        <child link="RightFoot_f2"/>
        <dynamics damping="0.1" friction="0.0"/>
        <limit effort="30" velocity="1.0" lower="-0.523599" upper="0.872665" />
        <axis xyz="0 1 0" />
    </joint>
    <joint name="jRightAnkle_rotz" type="revolute">
        <origin xyz="0 0 0" rpy="0 0 0"/>
        <parent link="RightFoot_f2"/>
        <child link="RightFoot"/>
        <dynamics damping="0.1" friction="0.0"/>
        <limit effort="30" velocity="1.0" lower="-0.436332" upper="0.872665" />
        <axis xyz="0 0 1" />
    </joint>
	<joint name="jRightBallFoot_roty" type="revolute">
        <origin xyz="0.14743           0   -0.090724" rpy="0 0 0"/>
        <parent link="RightFoot"/>
        <child link="RightToe"/>
        <dynamics damping="0.1" friction="0.0"/>
        <limit effort="30" velocity="1.0" lower="-0.174533" upper="1.5708" />
        <axis xyz="0 1 0" />
    </joint>
	<!--Chain from (20) to (23)-->
	<joint name="jLeftHip_rotx" type="revolute">
        <origin xyz="0    0.080011       3e-06" rpy="0 0 0"/>
        <parent link="Pelvis"/>
        <child link="LeftUpperLeg_f1"/>
        <dynamics damping="0.1" friction="0.0"/>
        <limit effort="30" velocity="1.0" lower="-0.523599" upper="0.785398" />
        <axis xyz="1 0 0" />
    </joint>
	<joint name="jLeftHip_roty" type="revolute">
        <origin xyz="0 0 0" rpy="0 0 0"/>
        <parent link="LeftUpperLeg_f1"/>
        <child link="LeftUpperLeg_f2"/>
        <dynamics damping="0.1" friction="0.0"/>
        <limit effort="30" velocity="1.0" lower="-0.261799" upper="2.0944" />
        <axis xyz="0 1 0" />
    </joint>
    <joint name="jLeftHip_rotz" type="revolute">
        <origin xyz="0 0 0" rpy="0 0 0"/>
        <parent link="LeftUpperLeg_f2"/>
        <child link="LeftUpperLeg"/>
        <dynamics damping="0.1" friction="0.0"/>
        <limit effort="30" velocity="1.0" lower="-0.785398" upper="0.785398" />
        <axis xyz="0 0 1" />
    </joint>
	<joint name="jLeftKnee_roty" type="revolute">
        <origin xyz="4e-06           0    -0.41961" rpy="0 0 0"/>
        <parent link="LeftUpperLeg"/>
        <child link="LeftLowerLeg_f1"/>
        <dynamics damping="0.1" friction="0.0"/>
        <limit effort="30" velocity="1.0" lower="0" upper="2.35619" />
        <axis xyz="0 1 0" />
    </joint>
    <joint name="jLeftKnee_rotz" type="revolute">
        <origin xyz="0 0 0" rpy="0 0 0"/>
        <parent link="LeftLowerLeg_f1"/>
        <child link="LeftLowerLeg"/>
        <dynamics damping="0.1" friction="0.0"/>
        <limit effort="30" velocity="1.0" lower="-0.523599" upper="0.698132" />
        <axis xyz="0 0 1" />
    </joint>
	<joint name="jLeftAnkle_rotx" type="revolute">
        <origin xyz="4.5e-05           0     -0.4063" rpy="0 0 0"/>
        <parent link="LeftLowerLeg"/>
        <child link="LeftFoot_f1"/>
        <dynamics damping="0.1" friction="0.0"/>
        <limit effort="30" velocity="1.0" lower="-0.610865" upper="0.785398" />
        <axis xyz="1 0 0" />
    </joint>
	<joint name="jLeftAnkle_roty" type="revolute">
        <origin xyz="0 0 0" rpy="0 0 0"/>
        <parent link="LeftFoot_f1"/>
        <child link="LeftFoot_f2"/>
        <dynamics damping="0.1" friction="0.0"/>
        <limit effort="30" velocity="1.0" lower="-0.523599" upper="0.872665" />
        <axis xyz="0 1 0" />
    </joint>
    <joint name="jLeftAnkle_rotz" type="revolute">
        <origin xyz="0 0 0" rpy="0 0 0"/>
        <parent link="LeftFoot_f2"/>
        <child link="LeftFoot"/>
        <dynamics damping="0.1" friction="0.0"/>
        <limit effort="30" velocity="1.0" lower="-0.872665" upper="0.436332" />
        <axis xyz="0 0 1" />
    </joint>
	<joint name="jLeftBallFoot_roty" type="revolute">
        <origin xyz="0.14743           0   -0.090724" rpy="0 0 0"/>
        <parent link="LeftFoot"/>
        <child link="LeftToe"/>
        <dynamics damping="0.1" friction="0.0"/>
        <limit effort="30" velocity="1.0" lower="-0.174533" upper="1.5708" />
        <axis xyz="0 1 0" />
    </joint>

	<!-- Sensor  1-->
<sensor name="Pelvis_gyro" type="gyroscope">
<parent link="Pelvis"/>
<origin xyz="-0.063109  -0.0031828    0.090134" rpy="0.16371      1.2579     -2.6149"/>
</sensor>
<sensor name="Pelvis_accelerometer" type="accelerometer">
<parent link="Pelvis"/>
<origin xyz="-0.063109  -0.0031828    0.090134" rpy="0.16371      1.2579     -2.6149"/>
</sensor>
<!-- Sensor  2-->
<sensor name="T8_gyro" type="gyroscope">
<parent link="T8"/>
<origin xyz="0.14003  9.9247e-05    0.076885" rpy="0.087157      1.0186     0.28597"/>
</sensor>
<sensor name="T8_accelerometer" type="accelerometer">
<parent link="T8"/>
<origin xyz="0.14003  9.9247e-05    0.076885" rpy="0.087157      1.0186     0.28597"/>
</sensor>
<!-- Sensor  3-->
<sensor name="Head_gyro" type="gyroscope">
<parent link="Head"/>
<origin xyz="-0.06937  8.9834e-05    0.076262" rpy="2.4346    0.077258     -1.8635"/>
</sensor>
<sensor name="Head_accelerometer" type="accelerometer">
<parent link="Head"/>
<origin xyz="-0.06937  8.9834e-05    0.076262" rpy="2.4346    0.077258     -1.8635"/>
</sensor>
<!-- Sensor  4-->
<sensor name="RightShoulder_gyro" type="gyroscope">
<parent link="RightShoulder"/>
<origin xyz="-0.020018   -0.050005       -0.06" rpy="1.2893    -0.22999     -1.2211"/>
</sensor>
<sensor name="RightShoulder_accelerometer" type="accelerometer">
<parent link="RightShoulder"/>
<origin xyz="-0.020018   -0.050005       -0.06" rpy="1.2893    -0.22999     -1.2211"/>
</sensor>
<!-- Sensor  5-->
<sensor name="RightUpperArm_gyro" type="gyroscope">
<parent link="RightUpperArm"/>
<origin xyz="-0.019914   -0.099985    0.019978" rpy="-0.10648   -0.020853     -1.4872"/>
</sensor>
<sensor name="RightUpperArm_accelerometer" type="accelerometer">
<parent link="RightUpperArm"/>
<origin xyz="-0.019914   -0.099985    0.019978" rpy="-0.10648   -0.020853     -1.4872"/>
</sensor>
<!-- Sensor  6-->
<sensor name="RightForeArm_gyro" type="gyroscope">
<parent link="RightForeArm"/>
<origin xyz="0.0018307    -0.20033    0.020059" rpy="-0.78944   -0.056387     -1.2814"/>
</sensor>
<sensor name="RightForeArm_accelerometer" type="accelerometer">
<parent link="RightForeArm"/>
<origin xyz="0.0018307    -0.20033    0.020059" rpy="-0.78944   -0.056387     -1.2814"/>
</sensor>
<!-- Sensor  7-->
<sensor name="RightHand_gyro" type="gyroscope">
<parent link="RightHand"/>
<origin xyz="-0.00023006   -0.055076    0.019963" rpy="-0.89719    -0.22573     -1.3387"/>
</sensor>
<sensor name="RightHand_accelerometer" type="accelerometer">
<parent link="RightHand"/>
<origin xyz="-0.00023006   -0.055076    0.019963" rpy="-0.89719    -0.22573     -1.3387"/>
</sensor>
<!-- Sensor  8-->
<sensor name="LeftShoulder_gyro" type="gyroscope">
<parent link="LeftShoulder"/>
<origin xyz="-0.020037    0.050041   -0.060031" rpy="-1.1851    -0.31089      1.2065"/>
</sensor>
<sensor name="LeftShoulder_accelerometer" type="accelerometer">
<parent link="LeftShoulder"/>
<origin xyz="-0.020037    0.050041   -0.060031" rpy="-1.1851    -0.31089      1.2065"/>
</sensor>
<!-- Sensor  9-->
<sensor name="LeftUpperArm_gyro" type="gyroscope">
<parent link="LeftUpperArm"/>
<origin xyz="-0.019948    0.099993    0.019977" rpy="0.20083     -0.0718       1.433"/>
</sensor>
<sensor name="LeftUpperArm_accelerometer" type="accelerometer">
<parent link="LeftUpperArm"/>
<origin xyz="-0.019948    0.099993    0.019977" rpy="0.20083     -0.0718       1.433"/>
</sensor>
<!-- Sensor  10-->
<sensor name="LeftForeArm_gyro" type="gyroscope">
<parent link="LeftForeArm"/>
<origin xyz="0.001893     0.20039    0.019984" rpy="0.32521   -0.069135      1.1342"/>
</sensor>
<sensor name="LeftForeArm_accelerometer" type="accelerometer">
<parent link="LeftForeArm"/>
<origin xyz="0.001893     0.20039    0.019984" rpy="0.32521   -0.069135      1.1342"/>
</sensor>
<!-- Sensor  11-->
<sensor name="LeftHand_gyro" type="gyroscope">
<parent link="LeftHand"/>
<origin xyz="-4.2543e-05    0.055052    0.020058" rpy="0.37023    -0.20233        1.39"/>
</sensor>
<sensor name="LeftHand_accelerometer" type="accelerometer">
<parent link="LeftHand"/>
<origin xyz="-4.2543e-05    0.055052    0.020058" rpy="0.37023    -0.20233        1.39"/>
</sensor>
<!-- Sensor  12-->
<sensor name="RightUpperLeg_gyro" type="gyroscope">
<parent link="RightUpperLeg"/>
<origin xyz="0.011691   -0.043215    -0.25244" rpy="-3.0517      1.3685      1.6799"/>
</sensor>
<sensor name="RightUpperLeg_accelerometer" type="accelerometer">
<parent link="RightUpperLeg"/>
<origin xyz="0.011691   -0.043215    -0.25244" rpy="-3.0517      1.3685      1.6799"/>
</sensor>
<!-- Sensor  13-->
<sensor name="RightLowerLeg_gyro" type="gyroscope">
<parent link="RightLowerLeg"/>
<origin xyz="0.030853    0.007226    -0.13289" rpy="-1.6618      1.4352     -1.2269"/>
</sensor>
<sensor name="RightLowerLeg_accelerometer" type="accelerometer">
<parent link="RightLowerLeg"/>
<origin xyz="0.030853    0.007226    -0.13289" rpy="-1.6618      1.4352     -1.2269"/>
</sensor>
<!-- Sensor  14-->
<sensor name="RightFoot_gyro" type="gyroscope">
<parent link="RightFoot"/>
<origin xyz="0.085389   0.0015751   -0.011996" rpy="0.16074     0.92066   -0.098168"/>
</sensor>
<sensor name="RightFoot_accelerometer" type="accelerometer">
<parent link="RightFoot"/>
<origin xyz="0.085389   0.0015751   -0.011996" rpy="0.16074     0.92066   -0.098168"/>
</sensor>
<!-- Sensor  15-->
<sensor name="LeftUpperLeg_gyro" type="gyroscope">
<parent link="LeftUpperLeg"/>
<origin xyz="0.011505    0.043883    -0.25227" rpy="-2.8552      1.3828     -1.1711"/>
</sensor>
<sensor name="LeftUpperLeg_accelerometer" type="accelerometer">
<parent link="LeftUpperLeg"/>
<origin xyz="0.011505    0.043883    -0.25227" rpy="-2.8552      1.3828     -1.1711"/>
</sensor>
<!-- Sensor  16-->
<sensor name="LeftLowerLeg_gyro" type="gyroscope">
<parent link="LeftLowerLeg"/>
<origin xyz="0.030833   -0.007312    -0.13285" rpy="1.1105      1.5437     0.90219"/>
</sensor>
<sensor name="LeftLowerLeg_accelerometer" type="accelerometer">
<parent link="LeftLowerLeg"/>
<origin xyz="0.030833   -0.007312    -0.13285" rpy="1.1105      1.5437     0.90219"/>
</sensor>
<!-- Sensor  17-->
<sensor name="LeftFoot_gyro" type="gyroscope">
<parent link="LeftFoot"/>
<origin xyz="0.085192  -0.0024748    -0.01206" rpy="-0.30911     0.89451     0.07278"/>
</sensor>
<sensor name="LeftFoot_accelerometer" type="accelerometer">
<parent link="LeftFoot"/>
<origin xyz="0.085192  -0.0024748    -0.01206" rpy="-0.30911     0.89451     0.07278"/>
</sensor>


</robot>
